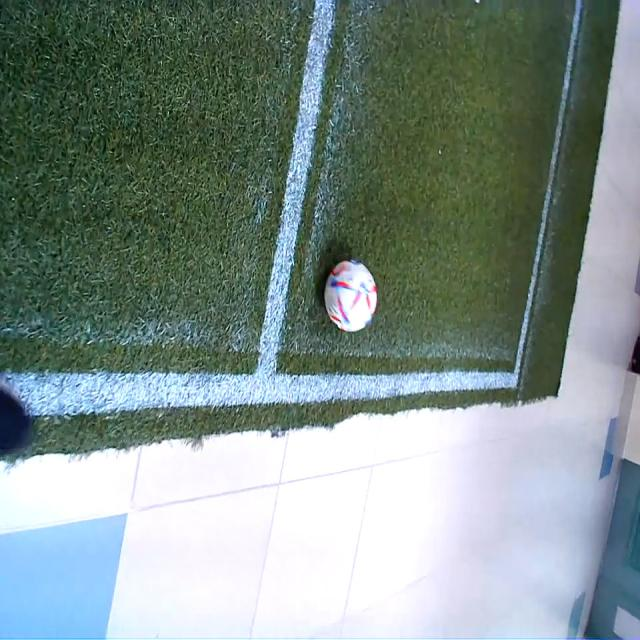ball: (324, 258, 376, 332)
